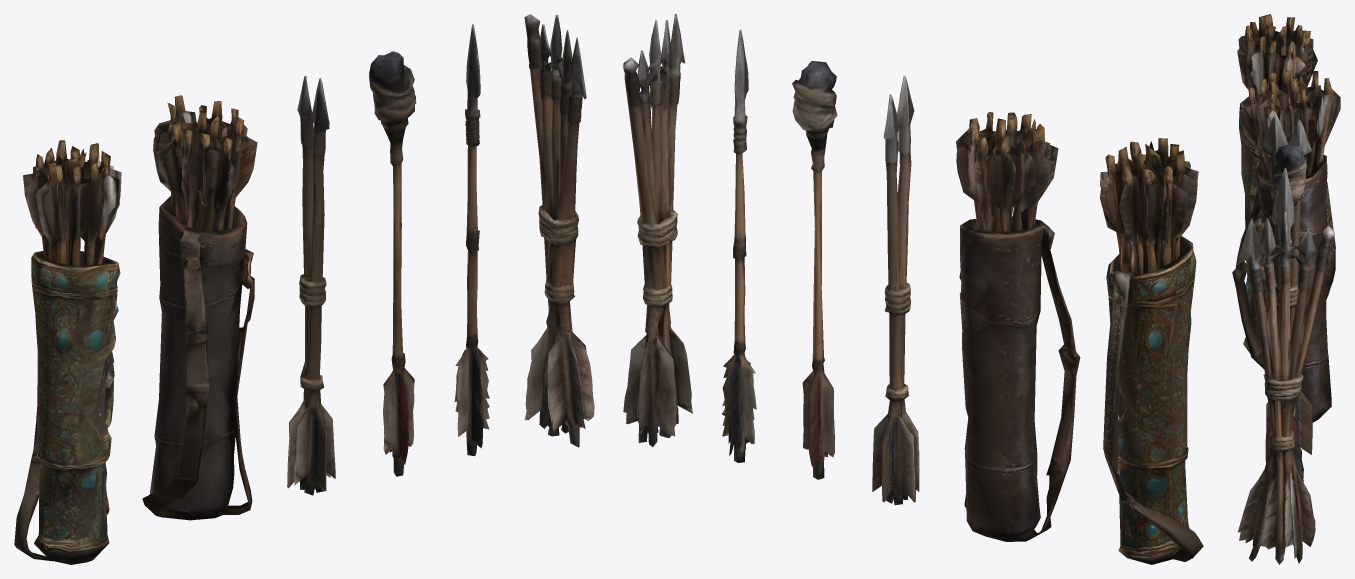
Rendered from weapons_arrows_quivers.glb.
The picture shows the model from 3 angles, left to right: view 1: azimuth 30°, elevation 25°; view 2: azimuth 150°, elevation 25°; view 3: azimuth 270°, elevation 25°; orthographic projection. The views are drawn at different scales.
Parts seen in each view (by area): view 1: quiver_leather, quiver_persian, arrows_bundle, bolts_pair, arrow_fire, arrow_war; view 2: quiver_leather, quiver_persian, arrows_bundle, bolts_pair, arrow_fire, arrow_war; view 3: arrows_bundle, quiver_leather, quiver_persian, bolts_pair, arrow_fire, arrow_war.
Part boxes in pixels (x1,y1,x2,y2): quiver_leather: (142, 95, 257, 520); quiver_persian: (14, 140, 121, 564); arrows_bundle: (524, 14, 594, 447); bolts_pair: (287, 76, 335, 495); arrow_fire: (369, 51, 416, 476); arrow_war: (454, 24, 489, 456); quiver_leather: (956, 112, 1080, 541); quiver_persian: (1100, 138, 1203, 564); arrows_bundle: (623, 14, 692, 447); bolts_pair: (872, 75, 919, 505); arrow_fire: (792, 61, 837, 479); arrow_war: (722, 29, 756, 462); arrows_bundle: (1238, 211, 1334, 564); quiver_leather: (1232, 69, 1340, 422); quiver_persian: (1237, 14, 1335, 353); bolts_pair: (1260, 113, 1312, 454); arrow_fire: (1265, 144, 1307, 462); arrow_war: (1272, 167, 1303, 481).
Bounding box in the file's own units: 0.8466 × 0.6155 × 0.1686.
1 material, 1 textured.
